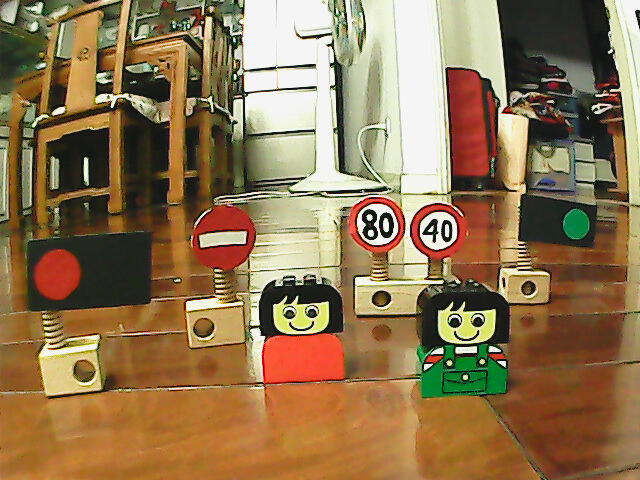Green Traffic Light: (555, 202, 595, 246)
Person: (412, 277, 513, 400), (256, 274, 350, 385)
Red Traffic Light: (28, 239, 88, 306)
Speed Limit 40: (407, 199, 471, 262)
Speed Limit 80: (345, 194, 408, 253)
Stop Sign: (188, 203, 259, 273)
